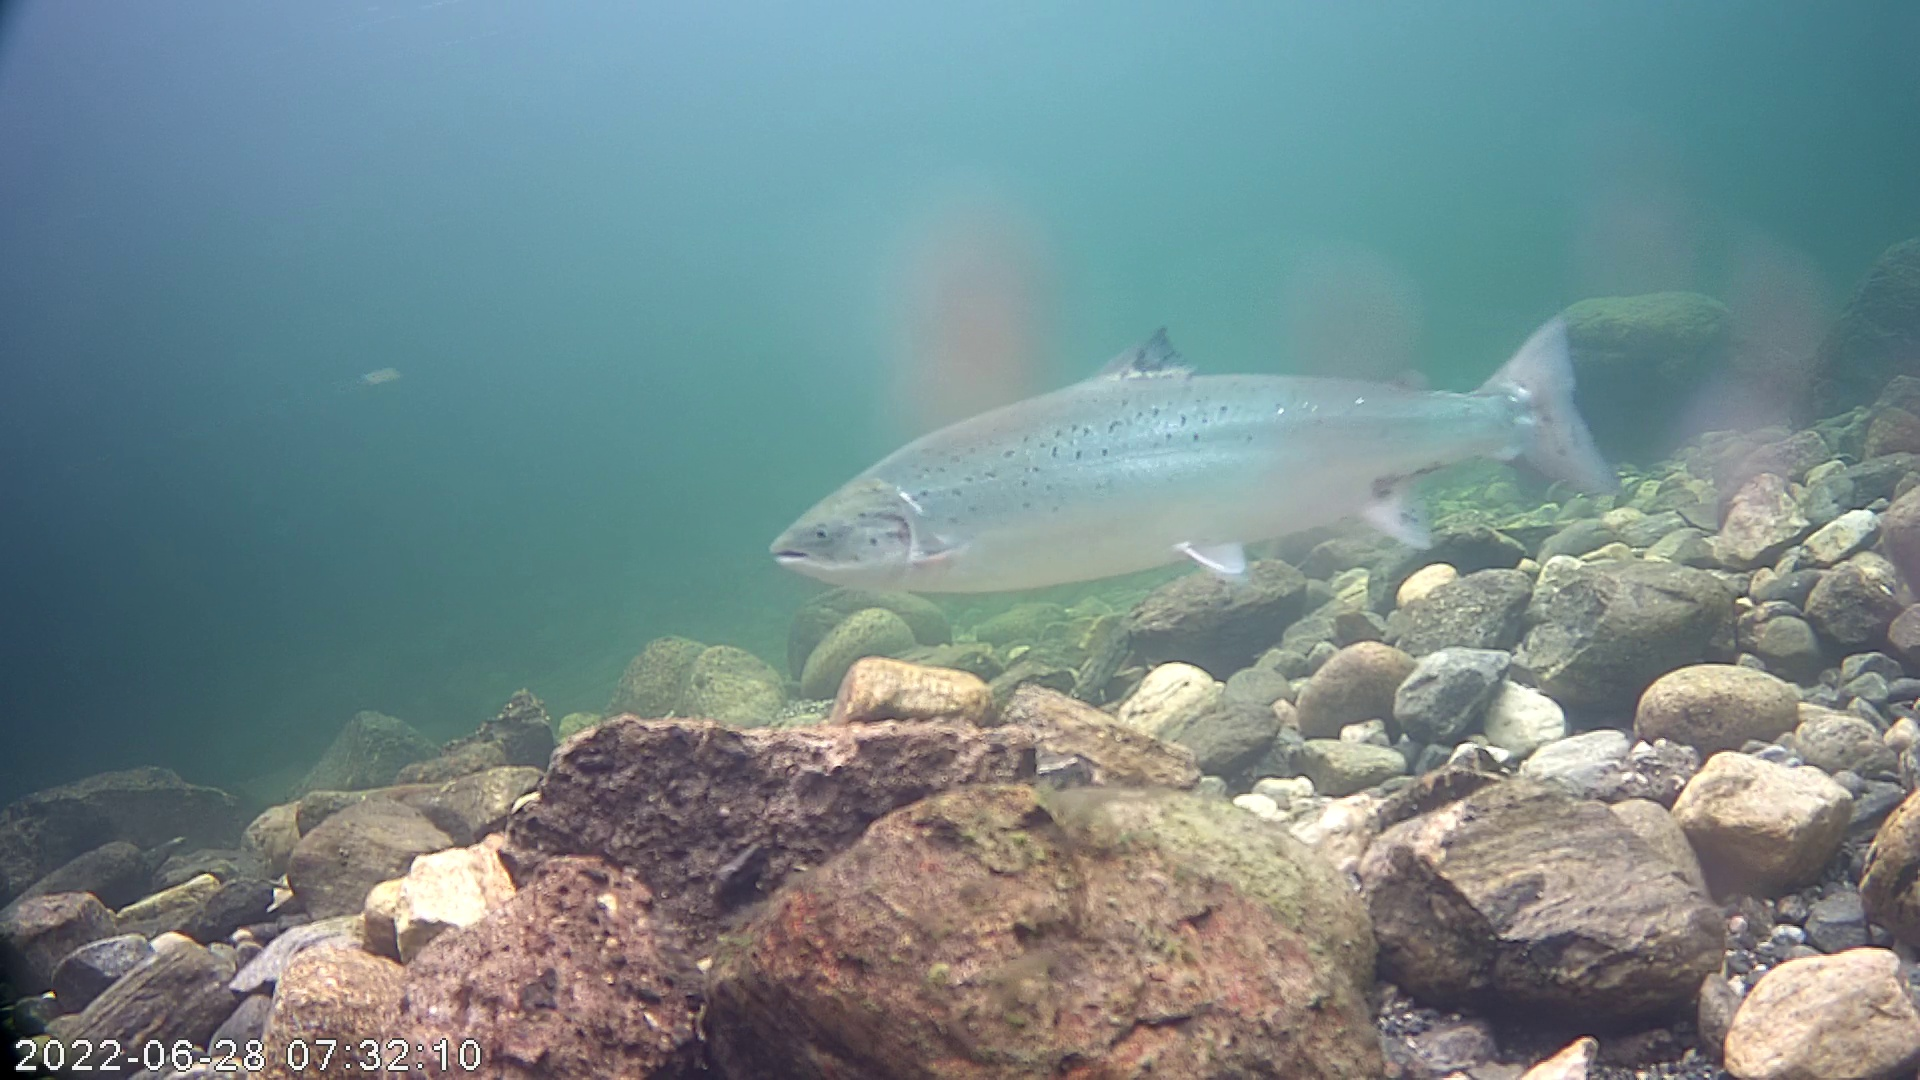salmon: (765, 218, 1646, 644)
